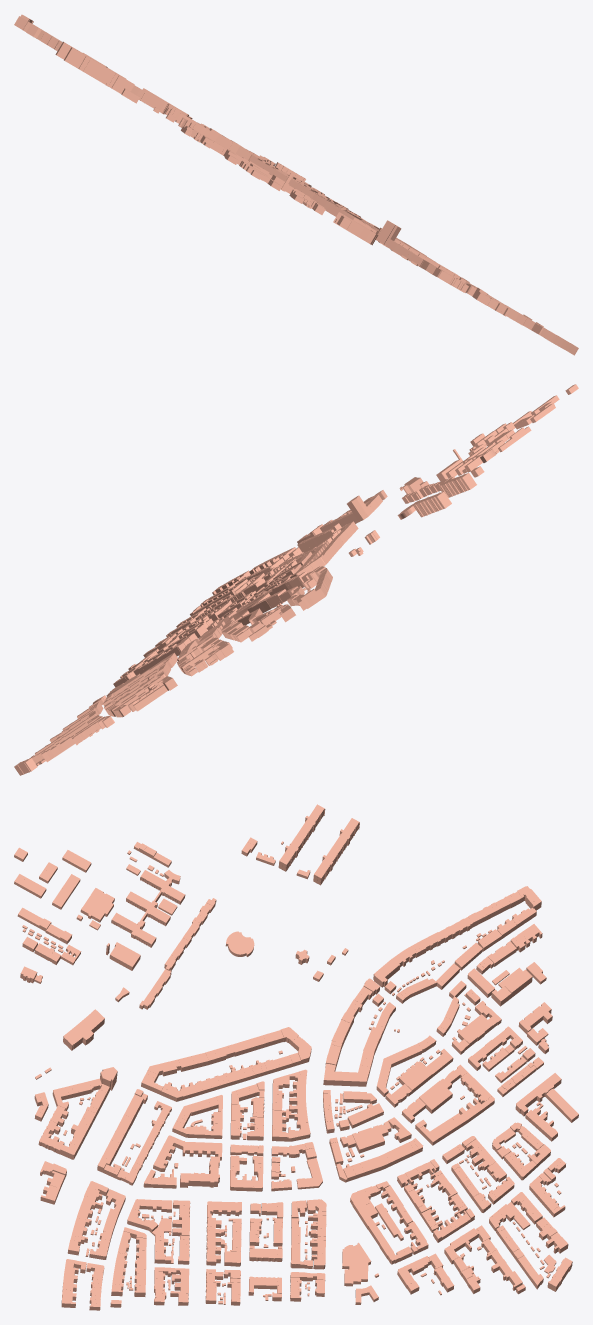
3 renders of one model, top to bottom at view 1: azimuth 30°, elevation 25°; view 2: azimuth 150°, elevation 25°; view 3: azimuth 270°, elevation 25°, orthographic. The views are drawn at different scales.
Bounding box in the file's own units: 533 × 410 × 655.
